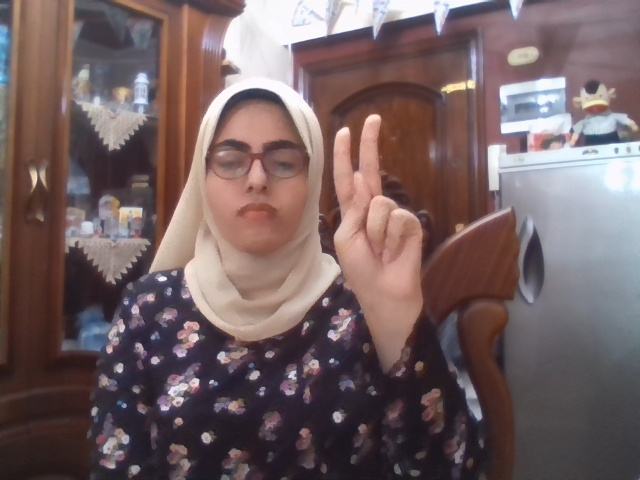K: (332, 114, 424, 304)
